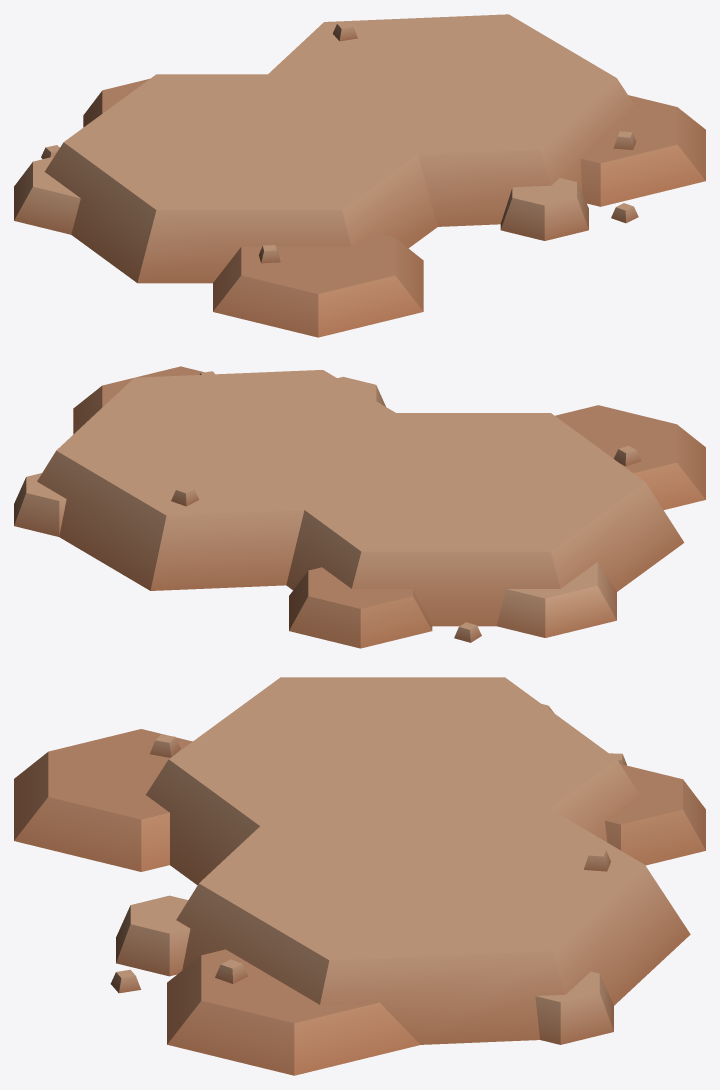
Rendered from rock-flat.glb.
3 views of the same model, one above another, from view 1: azimuth 30°, elevation 25°; view 2: azimuth 150°, elevation 25°; view 3: azimuth 270°, elevation 25° (orthographic). The views are drawn at different scales.
Visible parts, largest first — view 1: rock-flat; view 2: rock-flat; view 3: rock-flat.
Part boxes in pixels (x1,y1,x2,y2): rock-flat: [14, 14, 705, 337]; rock-flat: [14, 366, 705, 648]; rock-flat: [14, 677, 705, 1075].
Size of the model in its own units: 1.79 by 0.195 by 1.45.
